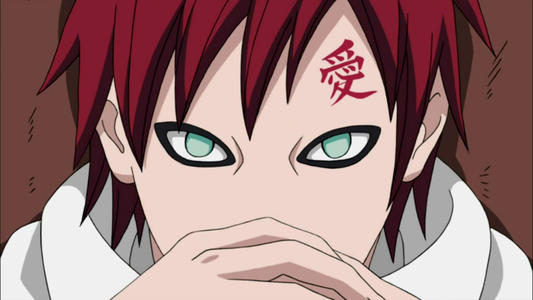gaara: (94, 2, 450, 266)
